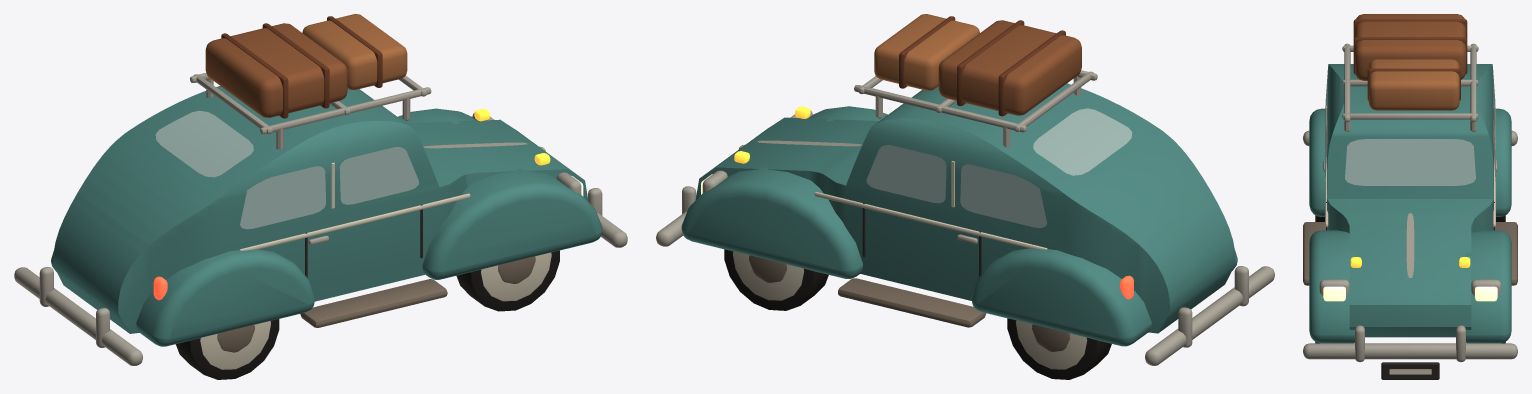
Rendered from car.glb.
3 renders of one model, left to right at view 1: azimuth 30°, elevation 25°; view 2: azimuth 150°, elevation 25°; view 3: azimuth 270°, elevation 25°, orthographic. The views are drawn at different scales.
Visible parts, largest first — view 1: Car, Car_Wheel_RR, Car_Wheel_FR; view 2: Car, Car_Wheel_RL, Car_Wheel_FL; view 3: Car.
Boxes of the visible parts, x1,y1,x2,y2 form: Car: (14,14,627,365); Car_Wheel_RR: (176,319,279,379); Car_Wheel_FR: (456,250,559,311); Car: (656,14,1274,365); Car_Wheel_RL: (1007,318,1111,379); Car_Wheel_FL: (724,249,828,310); Car: (1303,14,1517,379).
Size of the model in its own units: 4.16 by 2.12 by 1.7.
